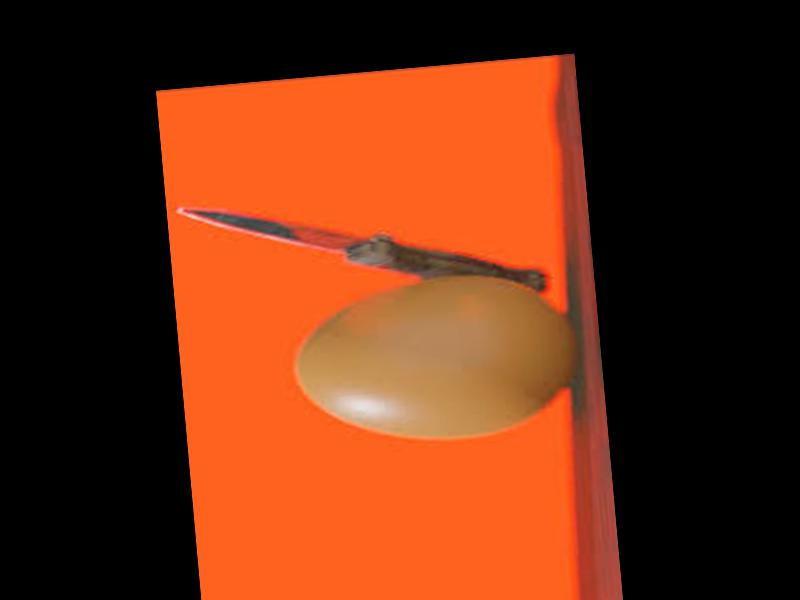Eggs: (292, 267, 577, 449)
